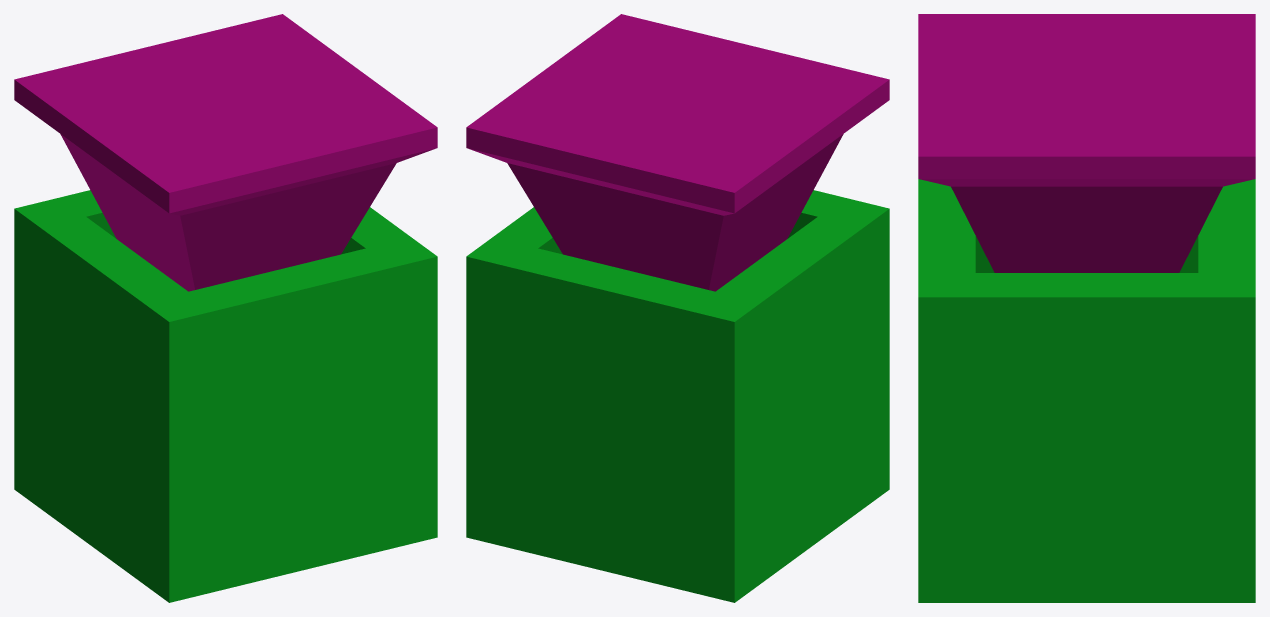
File: AnimatedBox_000169.obj
3 renders of one model, left to right at view 1: azimuth 30°, elevation 25°; view 2: azimuth 150°, elevation 25°; view 3: azimuth 270°, elevation 25°, orthographic. The views are drawn at different scales.
Visible parts, largest first — view 1: Cube, Cube.001; view 2: Cube, Cube.001; view 3: Cube, Cube.001.
Boxes of the visible parts, x1,y1,x2,y2 form: Cube: [14, 190, 437, 602]; Cube.001: [14, 14, 437, 291]; Cube: [466, 190, 889, 602]; Cube.001: [466, 14, 889, 291]; Cube: [918, 179, 1255, 602]; Cube.001: [918, 14, 1255, 272].
Size of the model in its own units: 2 by 2.92 by 2.
